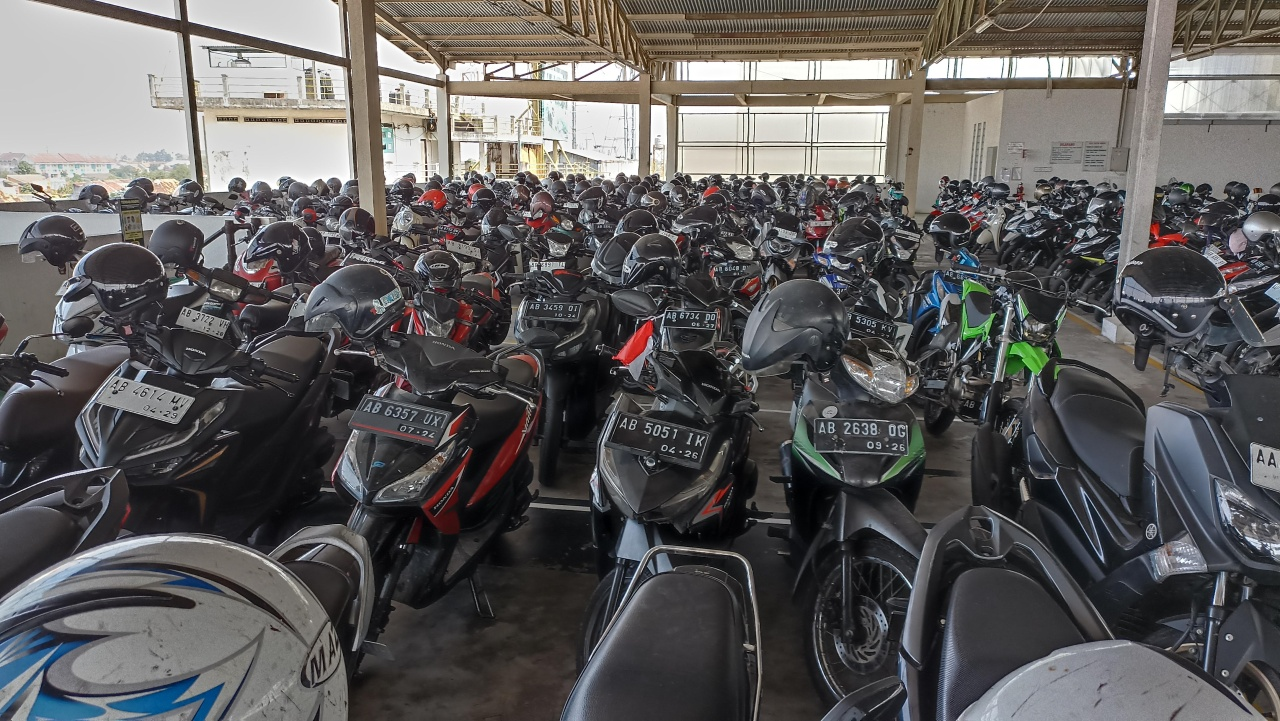plate: (606, 410, 710, 466), (348, 394, 450, 445), (96, 376, 195, 424), (814, 418, 908, 456), (175, 306, 230, 339), (525, 301, 583, 321), (663, 310, 718, 330)
